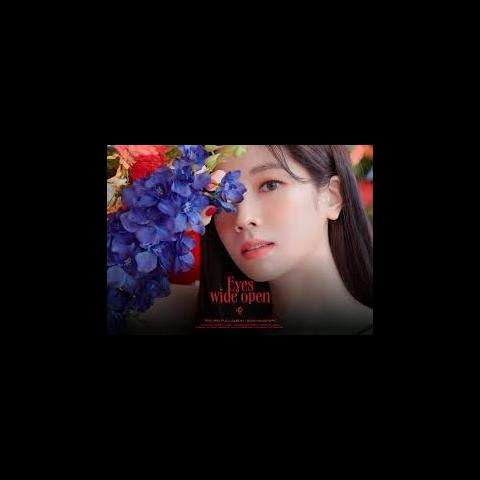opened: (244, 158, 292, 200)
